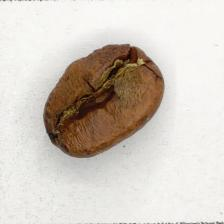NG: (60, 57, 142, 132)
